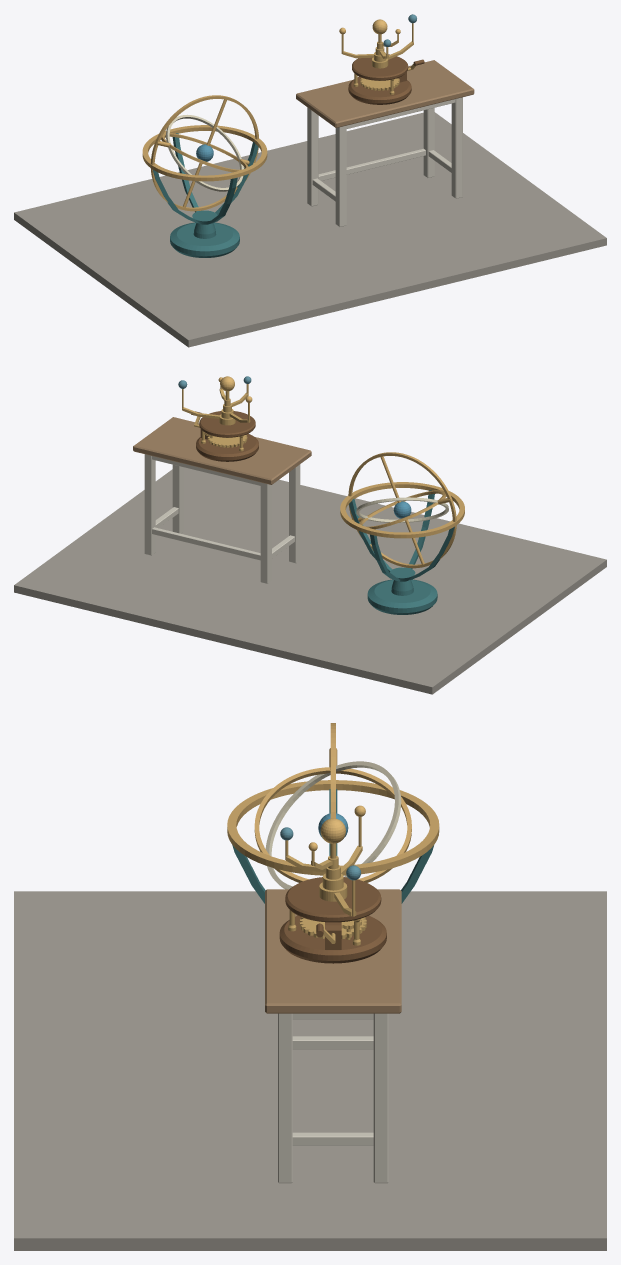
3 views of the same model, one above another, from view 1: azimuth 30°, elevation 25°; view 2: azimuth 150°, elevation 25°; view 3: azimuth 270°, elevation 25° (orthographic). The views are drawn at different scales.
Parts seen in each view (by area): view 1: SCENE_ONLY__DisplayFloor, table__Complete work surface, armillary__WholeFiniteSolePedestal, armillary__WholeHorizontalHorizonBand, table__Worktable leg, table__Worktable leg.002, armillary__WholeUprightMeridianHoop, table__Worktable leg.001, orrery__WholeBroadSteppedDisplayBase, orrery__WholeUpperAnnularSupportDeck, armillary__WholeCrossTiltedEclipticBand, table__Rear lower brace (+4 smaller); view 2: SCENE_ONLY__DisplayFloor, table__Complete work surface, armillary__WholeFiniteSolePedestal, armillary__WholeHorizontalHorizonBand, table__Worktable leg.001, table__Worktable leg.003, armillary__WholeUprightMeridianHoop, table__Worktable leg, orrery__WholeBroadSteppedDisplayBase, orrery__WholeUpperAnnularSupportDeck, table__Rear lower brace, table__Worktable leg.002 (+4 smaller); view 3: SCENE_ONLY__DisplayFloor, table__Complete work surface, armillary__WholeHorizontalHorizonBand, orrery__WholeUpperAnnularSupportDeck, orrery__WholeBroadSteppedDisplayBase, table__Worktable leg.003, table__Worktable leg.002, armillary__WholeTiltedInnerEquatorBand, armillary__WholeCrossTiltedEclipticBand, table__Side lower stretcher, table__Side lower stretcher.001.
Boxes of the visible parts, bbox=[...] form: SCENE_ONLY__DisplayFloor: bbox=[14, 112, 606, 347]; table__Complete work surface: bbox=[296, 60, 474, 127]; armillary__WholeFiniteSolePedestal: bbox=[170, 222, 239, 257]; armillary__WholeHorizontalHorizonBand: bbox=[142, 125, 267, 181]; table__Worktable leg: bbox=[335, 125, 346, 226]; table__Worktable leg.002: bbox=[451, 97, 462, 198]; armillary__WholeUprightMeridianHoop: bbox=[150, 95, 258, 211]; table__Worktable leg.001: bbox=[307, 107, 318, 206]; orrery__WholeBroadSteppedDisplayBase: bbox=[348, 77, 411, 104]; orrery__WholeUpperAnnularSupportDeck: bbox=[352, 54, 408, 80]; armillary__WholeCrossTiltedEclipticBand: bbox=[166, 114, 243, 191]; table__Rear lower brace: bbox=[318, 148, 425, 180]; SCENE_ONLY__DisplayFloor: bbox=[14, 467, 606, 694]; table__Complete work surface: bbox=[133, 417, 311, 484]; armillary__WholeFiniteSolePedestal: bbox=[367, 579, 437, 614]; armillary__WholeHorizontalHorizonBand: bbox=[340, 482, 464, 538]; table__Worktable leg.001: bbox=[260, 482, 271, 583]; table__Worktable leg.003: bbox=[144, 454, 155, 555]; armillary__WholeUprightMeridianHoop: bbox=[348, 452, 456, 568]; table__Worktable leg: bbox=[289, 464, 300, 563]; orrery__WholeBroadSteppedDisplayBase: bbox=[196, 433, 258, 461]; orrery__WholeUpperAnnularSupportDeck: bbox=[199, 411, 255, 437]; table__Rear lower brace: bbox=[152, 527, 260, 560]; table__Worktable leg.002: bbox=[172, 464, 183, 533]; SCENE_ONLY__DisplayFloor: bbox=[14, 891, 606, 1250]; table__Complete work surface: bbox=[265, 889, 401, 1013]; armillary__WholeHorizontalHorizonBand: bbox=[227, 780, 439, 875]; orrery__WholeUpperAnnularSupportDeck: bbox=[285, 877, 381, 922]; orrery__WholeBroadSteppedDisplayBase: bbox=[279, 915, 386, 963]; table__Worktable leg.003: bbox=[373, 1013, 388, 1183]; table__Worktable leg.002: bbox=[278, 1013, 292, 1183]; armillary__WholeTiltedInnerEquatorBand: bbox=[254, 767, 411, 882]; armillary__WholeCrossTiltedEclipticBand: bbox=[265, 761, 401, 889]; table__Side lower stretcher: bbox=[292, 1036, 373, 1049]; table__Side lower stretcher.001: bbox=[292, 1132, 373, 1145].
Size of the model in its own units: 3.6 by 1.55 by 2.6.
